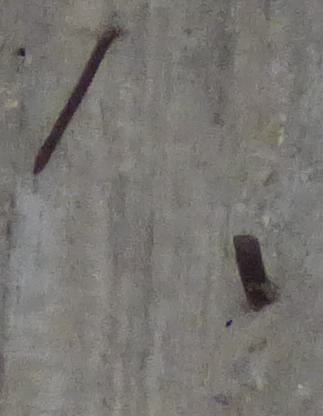Exposed reinforcement: (32, 27, 118, 175), (232, 234, 274, 311)
